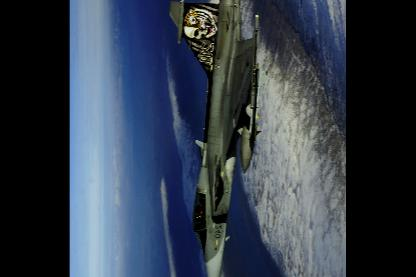JAS39: (168, 0, 261, 276)
